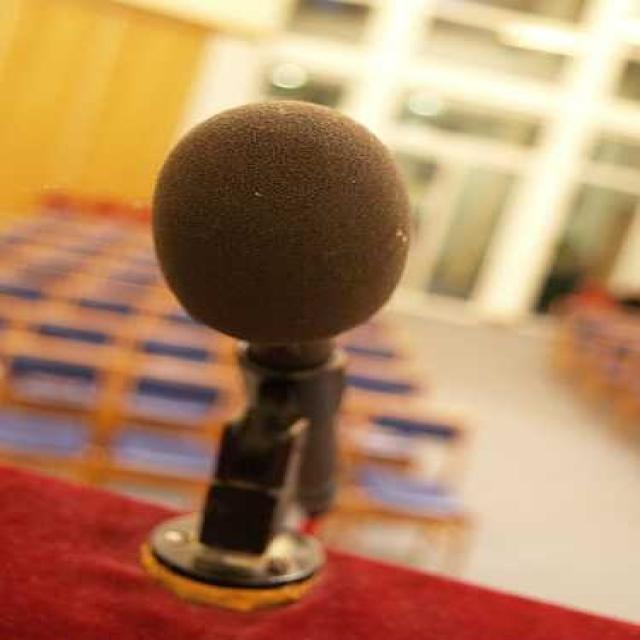microphone: (129, 98, 417, 610)
